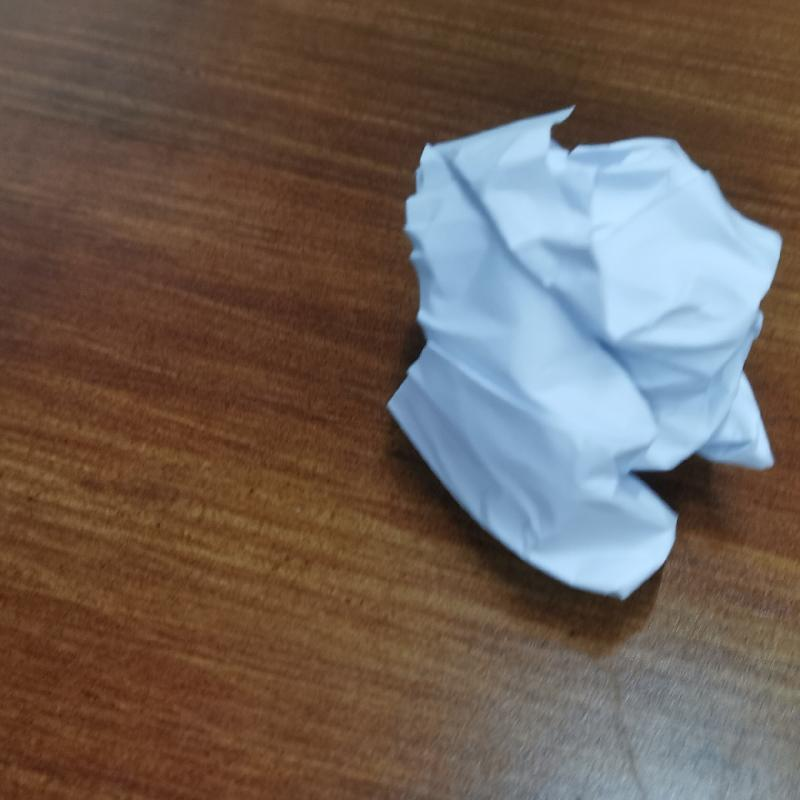spitball: (371, 96, 788, 609)
